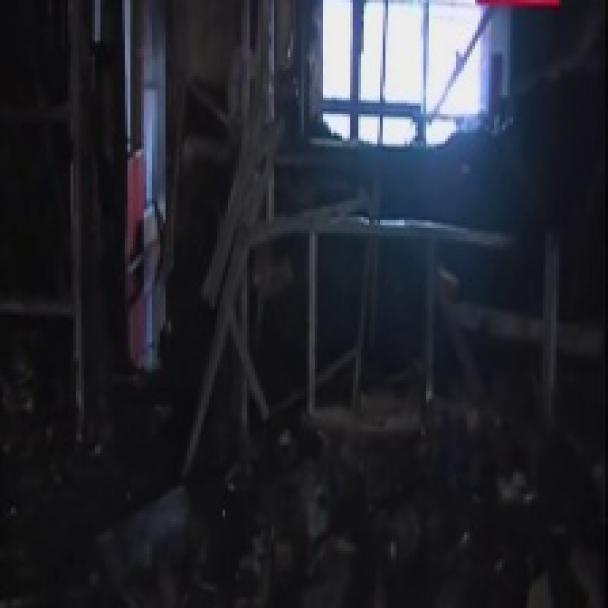smoke: (319, 28, 526, 328)
